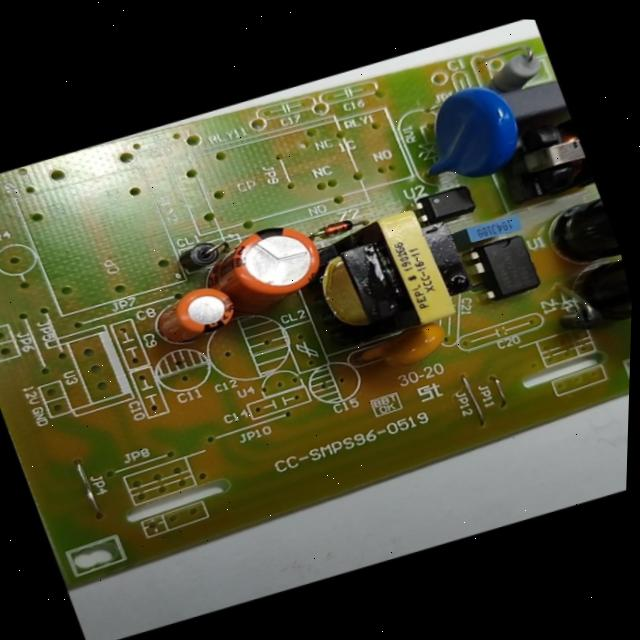Cap1: (196, 207, 334, 320)
Cap2: (140, 275, 246, 352)
Cap3: (524, 189, 624, 283)
Cap4: (567, 256, 633, 339)
MOSFET: (463, 227, 547, 307)
Mov: (398, 69, 536, 199)
Resistor: (481, 39, 552, 97)
Transformer: (268, 191, 484, 366), (489, 109, 598, 212)
